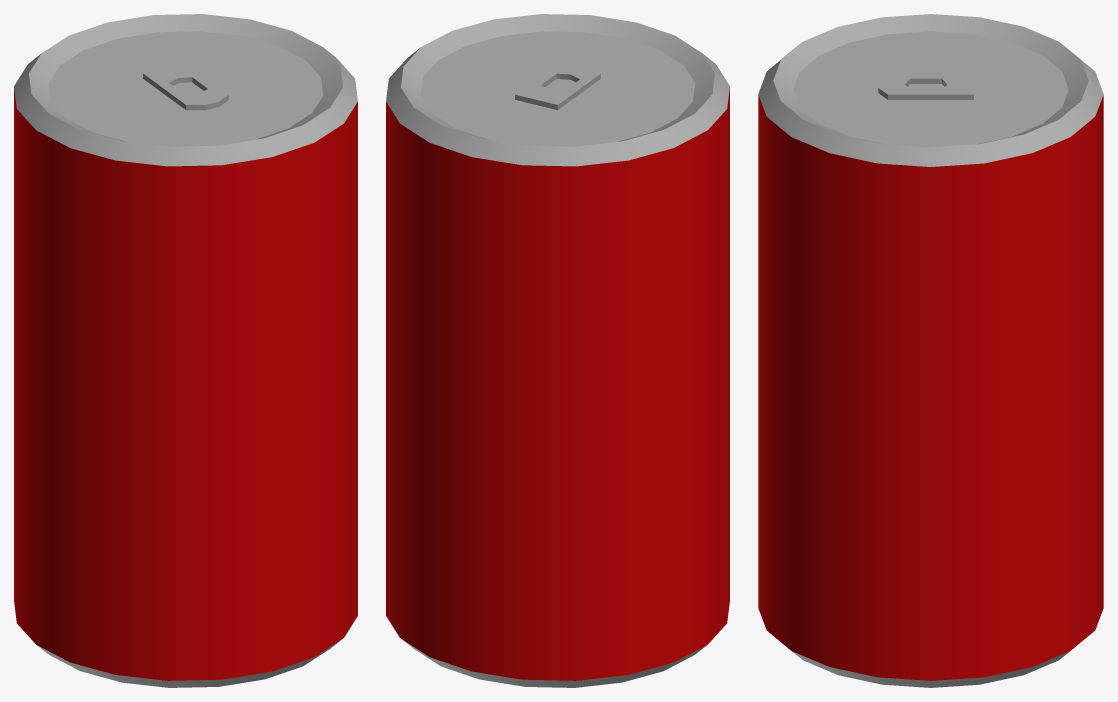
The model's file is WW_Can_01_Prop.fbx.
3 renders of one model, left to right at view 1: azimuth 30°, elevation 25°; view 2: azimuth 150°, elevation 25°; view 3: azimuth 270°, elevation 25°, orthographic.
Parts seen in each view (by area): view 1: Can, CanLid; view 2: Can, CanLid; view 3: Can, CanLid.
Part boxes in pixels (x1,y1,x2,y2): Can: (14,14,357,687); CanLid: (143,63,228,110); Can: (386,14,729,687); CanLid: (515,63,600,110); Can: (758,14,1103,687); CanLid: (878,74,973,99).
Bounding box in the file's own units: 7.01 × 12.11 × 7.01.
